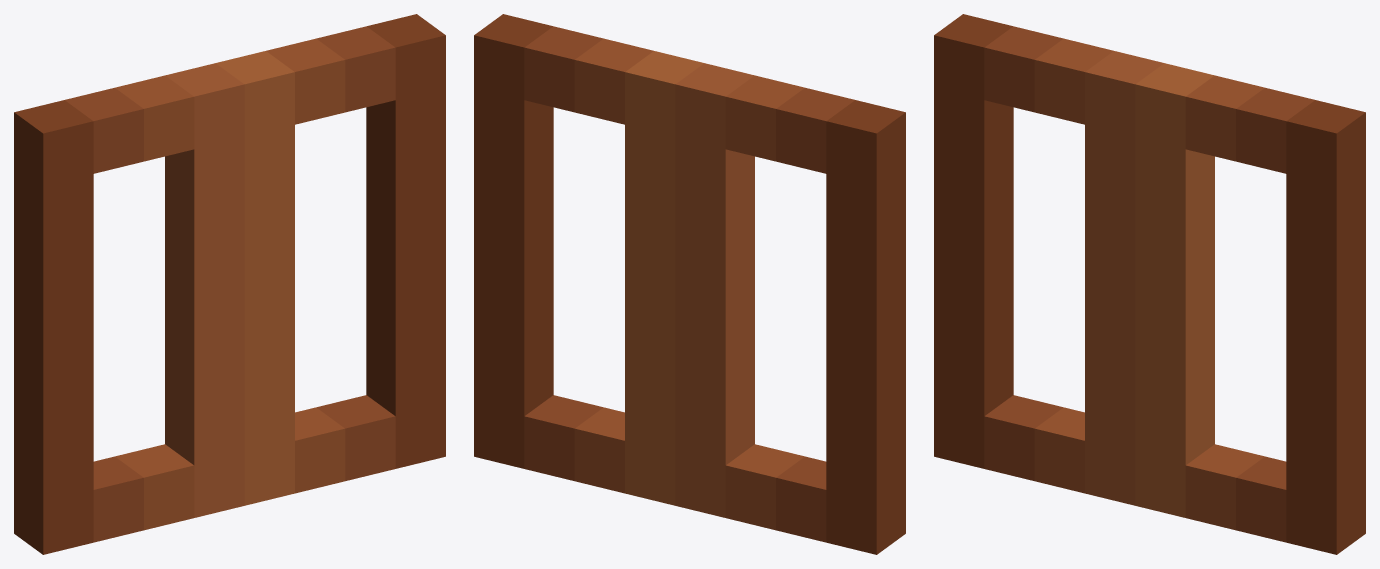
File: Plum Trapdoor.glb
The picture shows the model from 3 angles, left to right: view 1: azimuth 30°, elevation 25°; view 2: azimuth 150°, elevation 25°; view 3: azimuth 330°, elevation 25°; orthographic projection.
Parts seen in each view (by area): view 1: generated(Clone); view 2: generated(Clone); view 3: generated(Clone).
Boxes of the visible parts, bbox=[...] form: generated(Clone): bbox=[14, 14, 445, 554]; generated(Clone): bbox=[474, 14, 905, 554]; generated(Clone): bbox=[934, 14, 1365, 554].
Bounding box in the file's own units: 8 × 8 × 1.
1 material, 1 textured.
